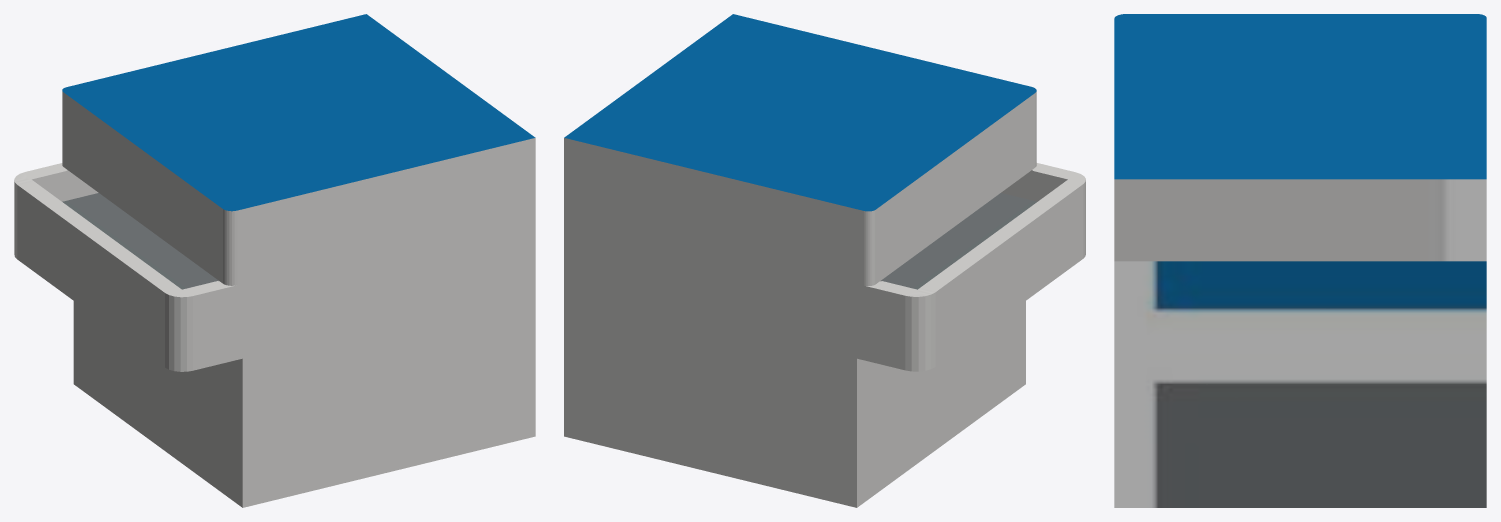
Rendered from mesa microondas.obj.
3 views of the same model, side by side, from view 1: azimuth 30°, elevation 25°; view 2: azimuth 150°, elevation 25°; view 3: azimuth 270°, elevation 25° (orthographic). The views are drawn at different scales.
Visible parts, largest first — view 1: Cubo.003_Cubo.018; view 2: Cubo.003_Cubo.018; view 3: Cubo.003_Cubo.018.
Part boxes in pixels (x1,y1,x2,y2): Cubo.003_Cubo.018: [14, 14, 535, 507]; Cubo.003_Cubo.018: [564, 14, 1085, 507]; Cubo.003_Cubo.018: [1114, 14, 1486, 507].
Bounding box in the file's own units: 32.01 × 25.35 × 26.02.
Materials: 1 (1 with a texture image).
